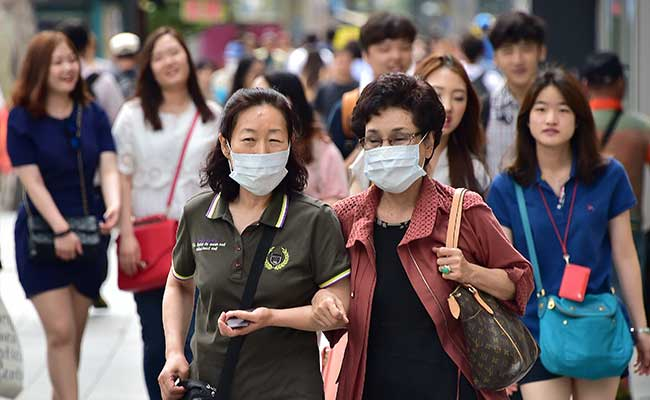with_mask: (232, 110, 286, 189), (363, 113, 414, 193)
without_mask: (531, 96, 573, 145)
